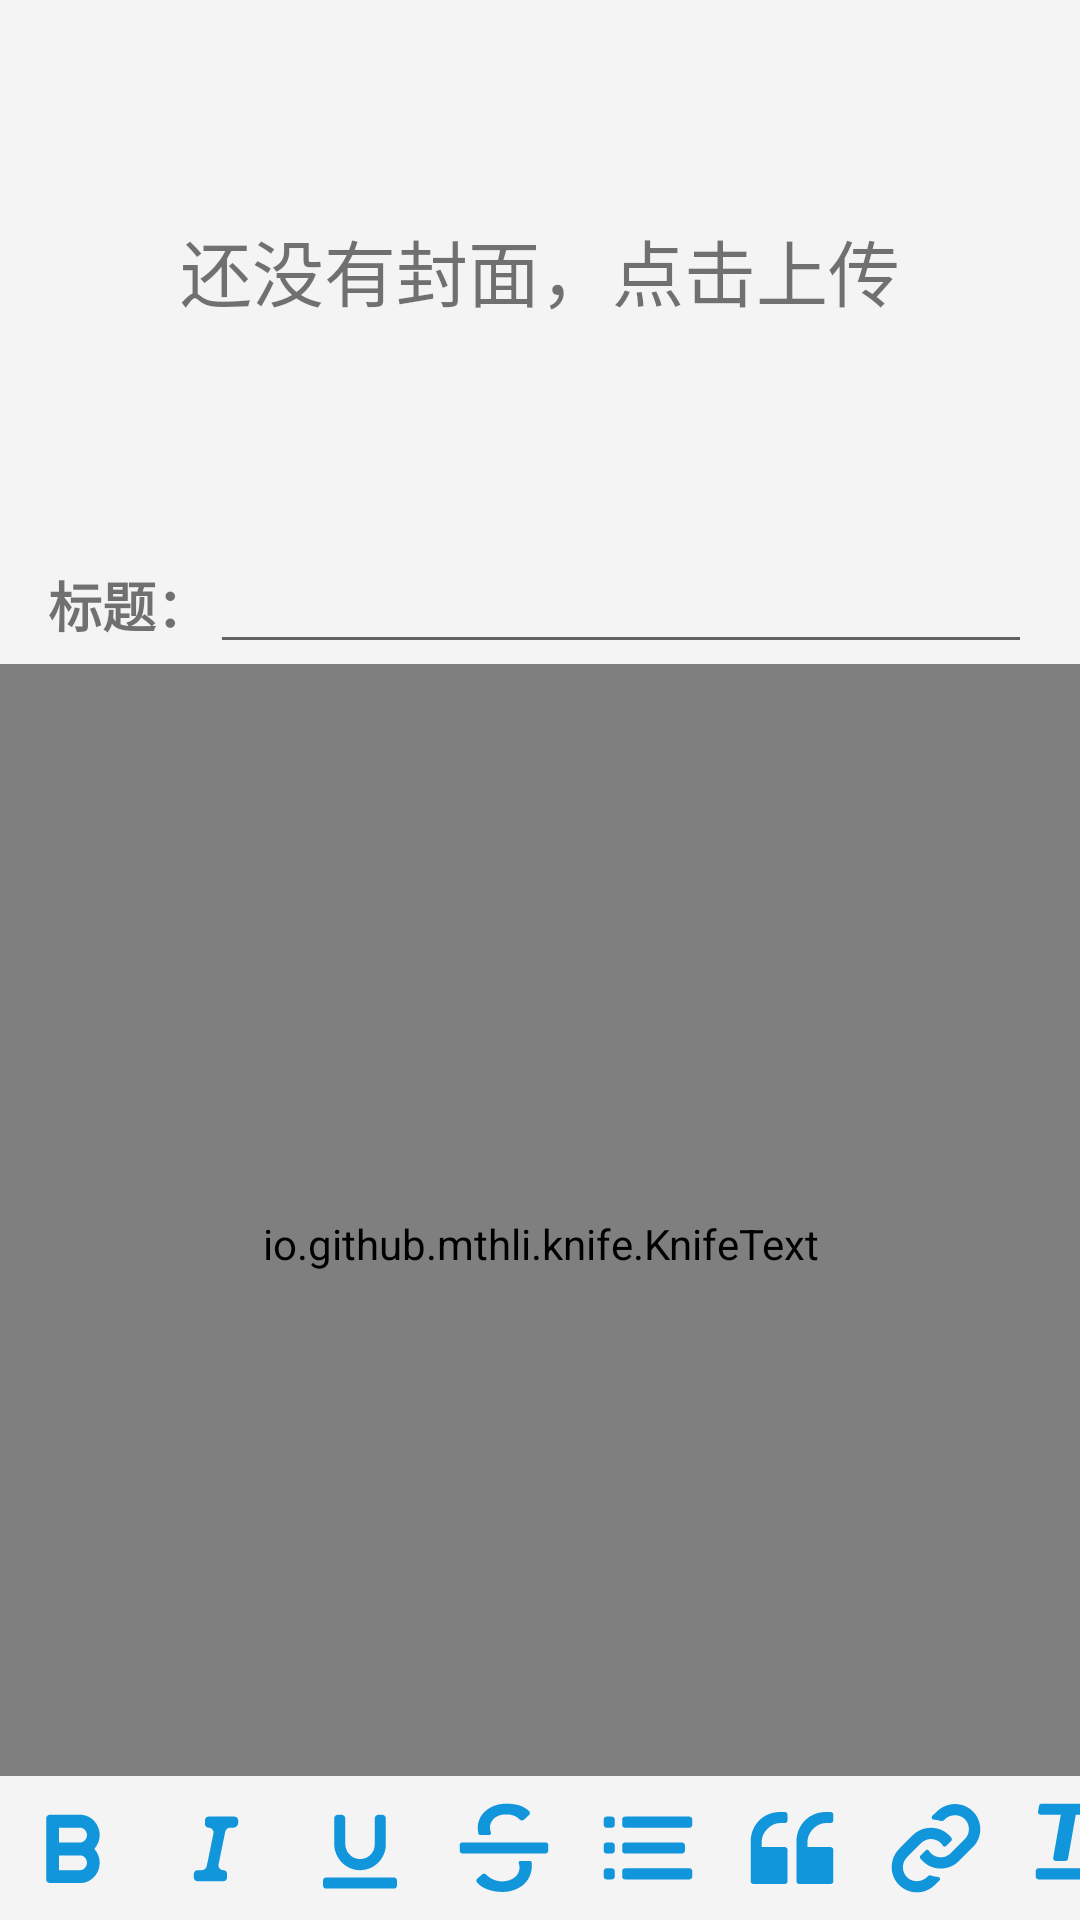

Icon click points for this 1080 × 1920 phone screenshot, format (x=x, y=y):
editor bullet: (x=648, y=1848)
editor italic: (x=216, y=1849)
editor link: (x=936, y=1848)
editor quote: (x=792, y=1848)
editor strikethrough: (x=504, y=1847)
editor underline: (x=360, y=1851)
